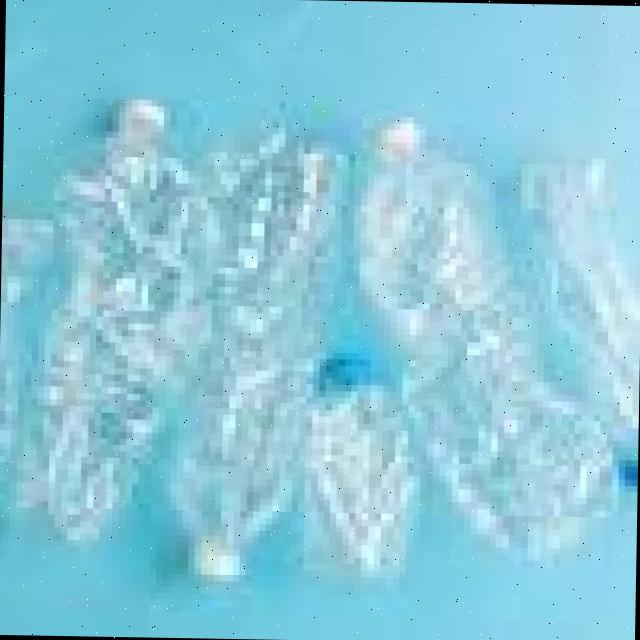bottle: (343, 104, 622, 554), (28, 74, 218, 552), (172, 127, 332, 584), (506, 138, 640, 491), (295, 344, 418, 584)
cap: (182, 536, 254, 592), (363, 110, 426, 161), (113, 95, 173, 132), (320, 350, 374, 388)
